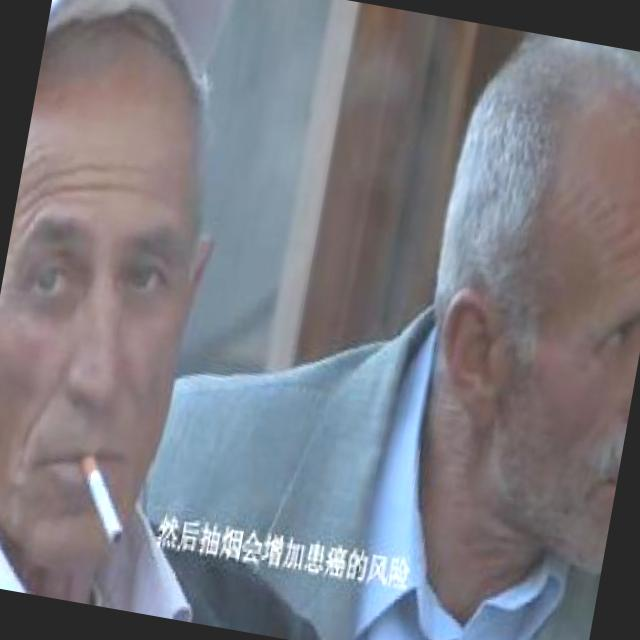cigarette: (52, 422, 150, 572)
